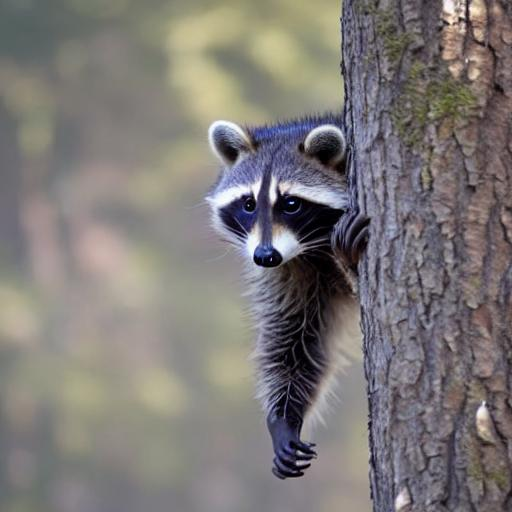raccoon: (202, 113, 347, 358)
